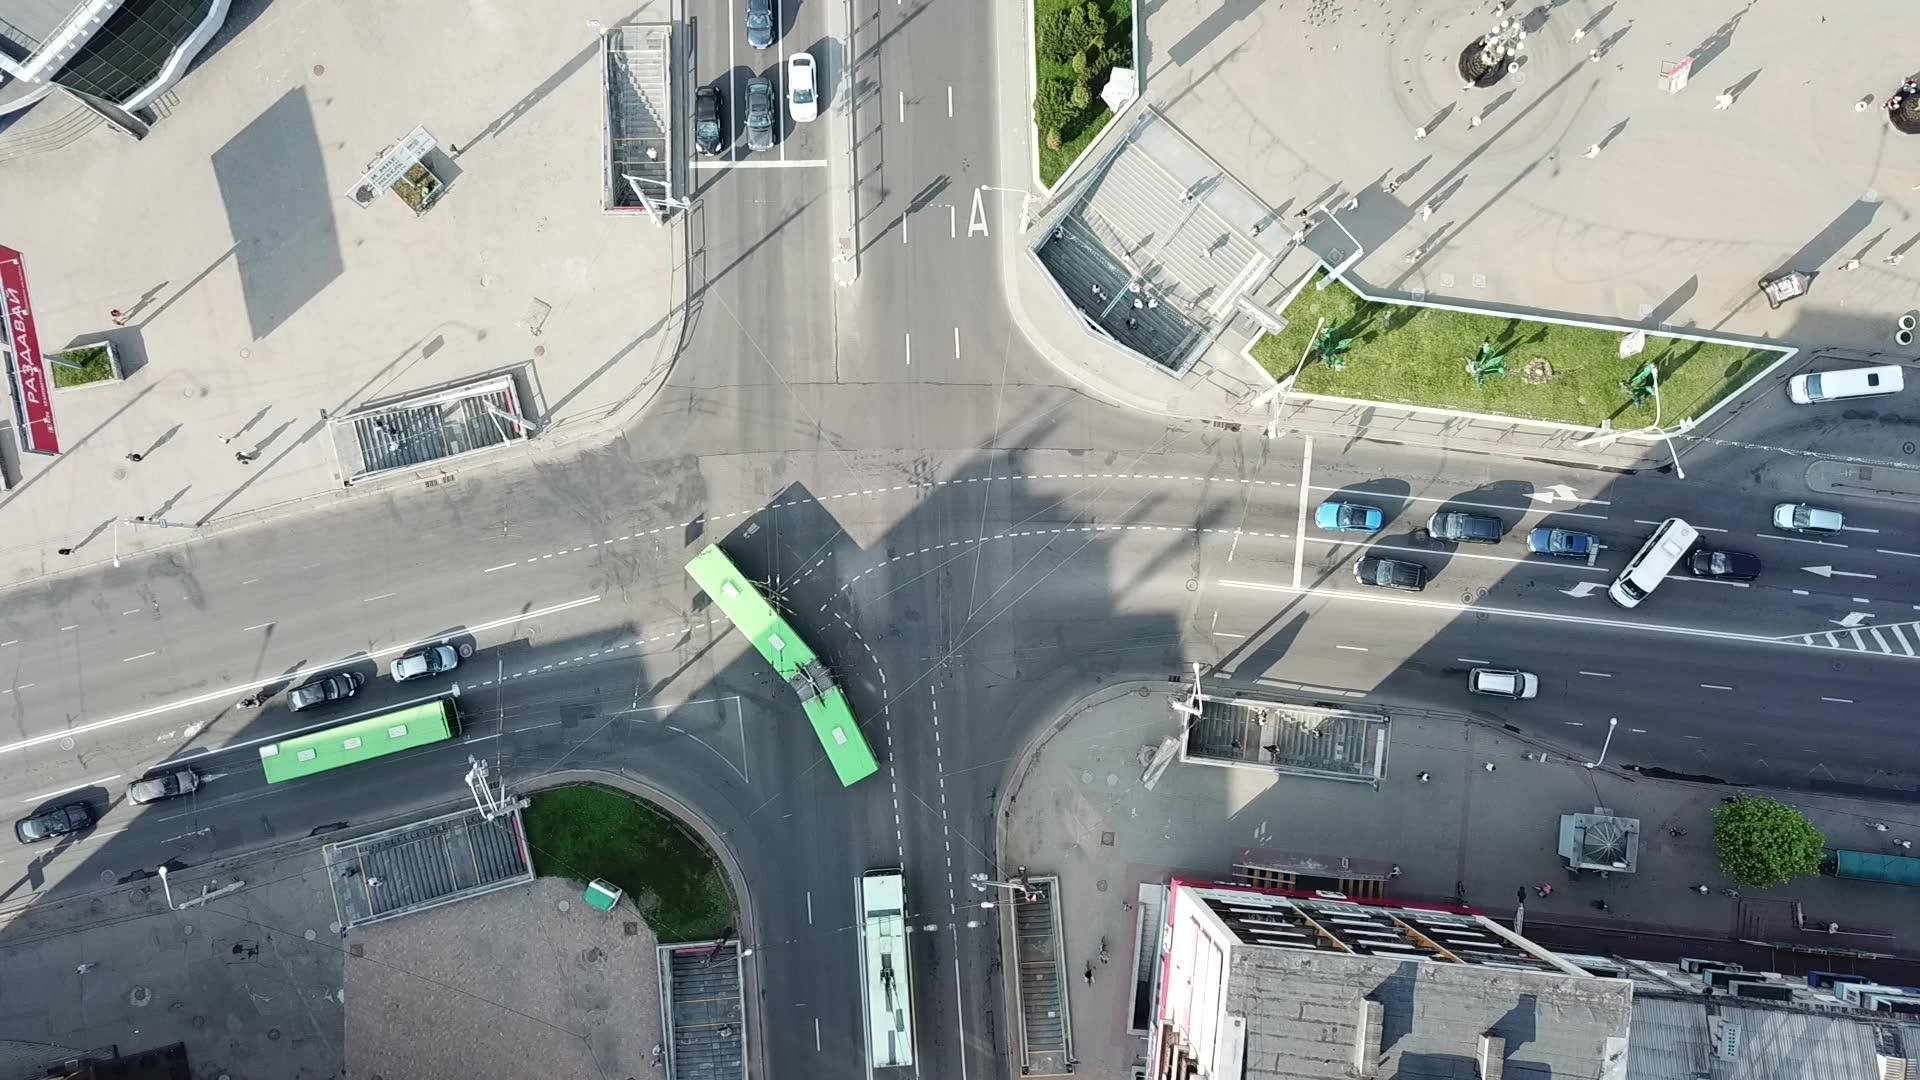car: (17, 800, 91, 845), (1353, 554, 1427, 593), (285, 673, 357, 712), (125, 769, 200, 806), (1425, 510, 1505, 545), (1688, 547, 1762, 582), (390, 645, 459, 682), (1526, 527, 1601, 560), (1772, 502, 1844, 537), (1466, 667, 1540, 700), (745, 75, 775, 152), (1312, 501, 1385, 531), (787, 51, 818, 123), (694, 86, 723, 157)
